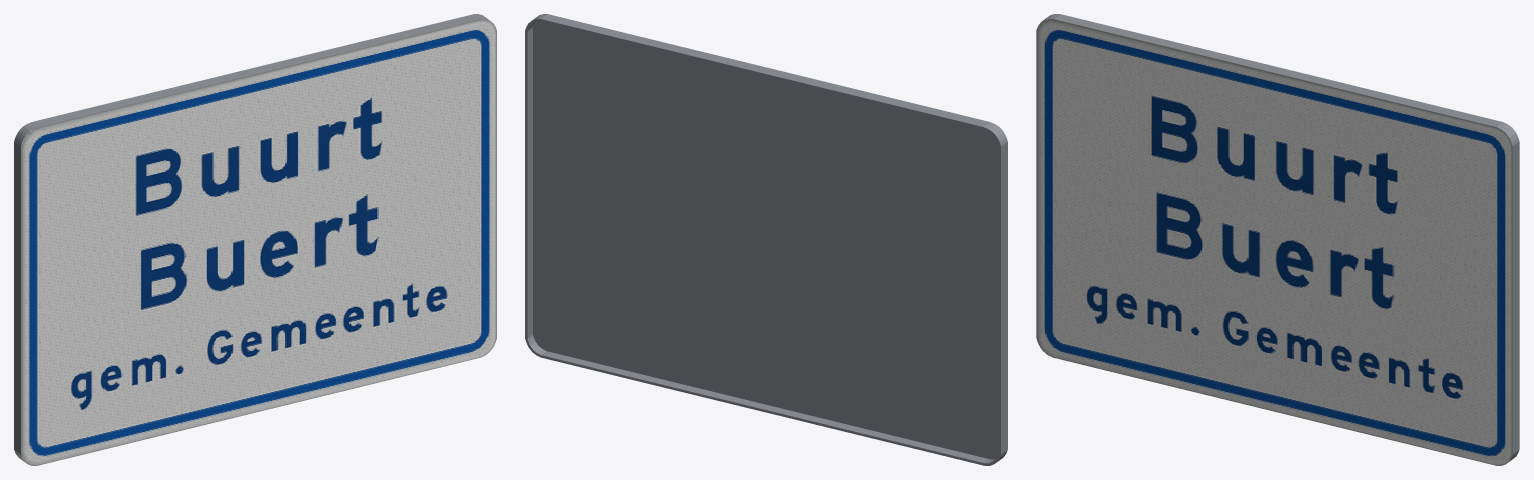
3 renders of one model, left to right at view 1: azimuth 30°, elevation 25°; view 2: azimuth 150°, elevation 25°; view 3: azimuth 330°, elevation 25°, orthographic.
Parts seen in each view (by area): view 1: cat_e323a6d64ef743d9; view 2: cat_e323a6d64ef743d9; view 3: cat_e323a6d64ef743d9.
Part boxes in pixels (bbox=[...]): cat_e323a6d64ef743d9: bbox=[14, 14, 496, 465]; cat_e323a6d64ef743d9: bbox=[525, 14, 1007, 465]; cat_e323a6d64ef743d9: bbox=[1036, 14, 1519, 465].
Bounding box in the file's own units: 0.6 × 0.015 × 0.4078.
Materials: 2 (1 with a texture image).
